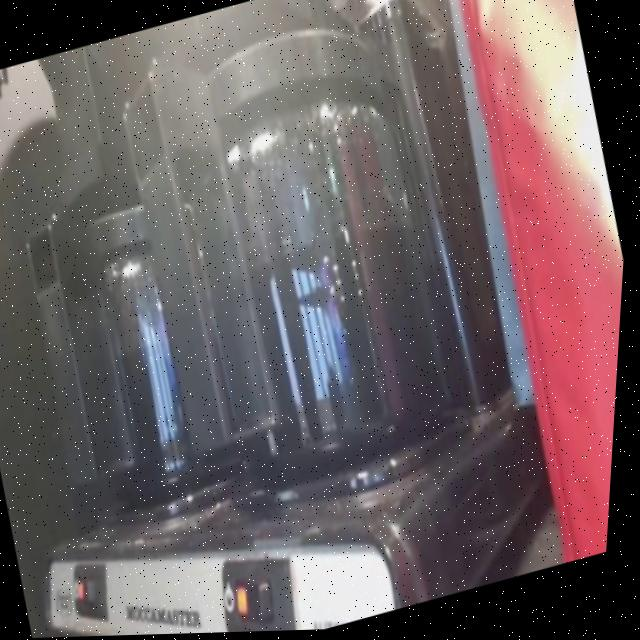coffee: (185, 147, 464, 469), (72, 253, 257, 504)
